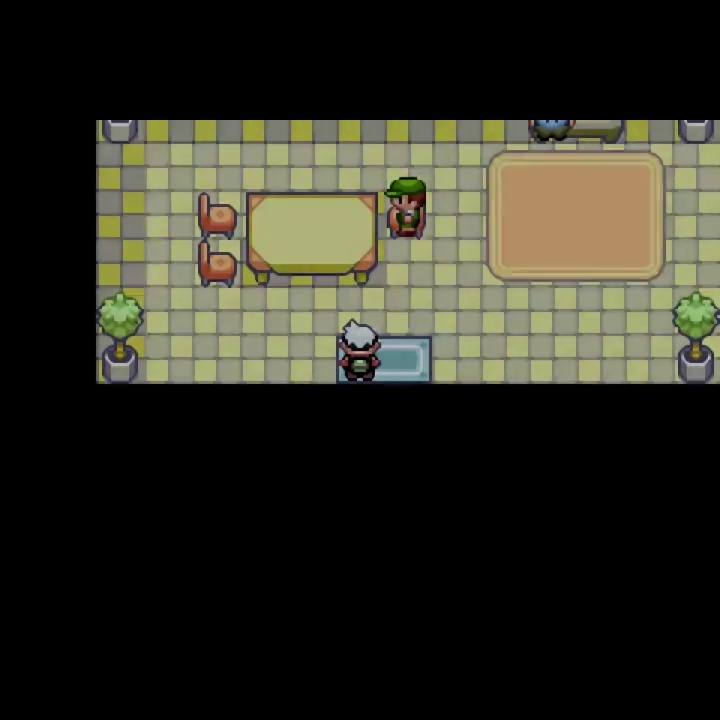exit: (333, 334, 434, 444)
npc: (335, 317, 384, 381), (382, 174, 429, 240)
